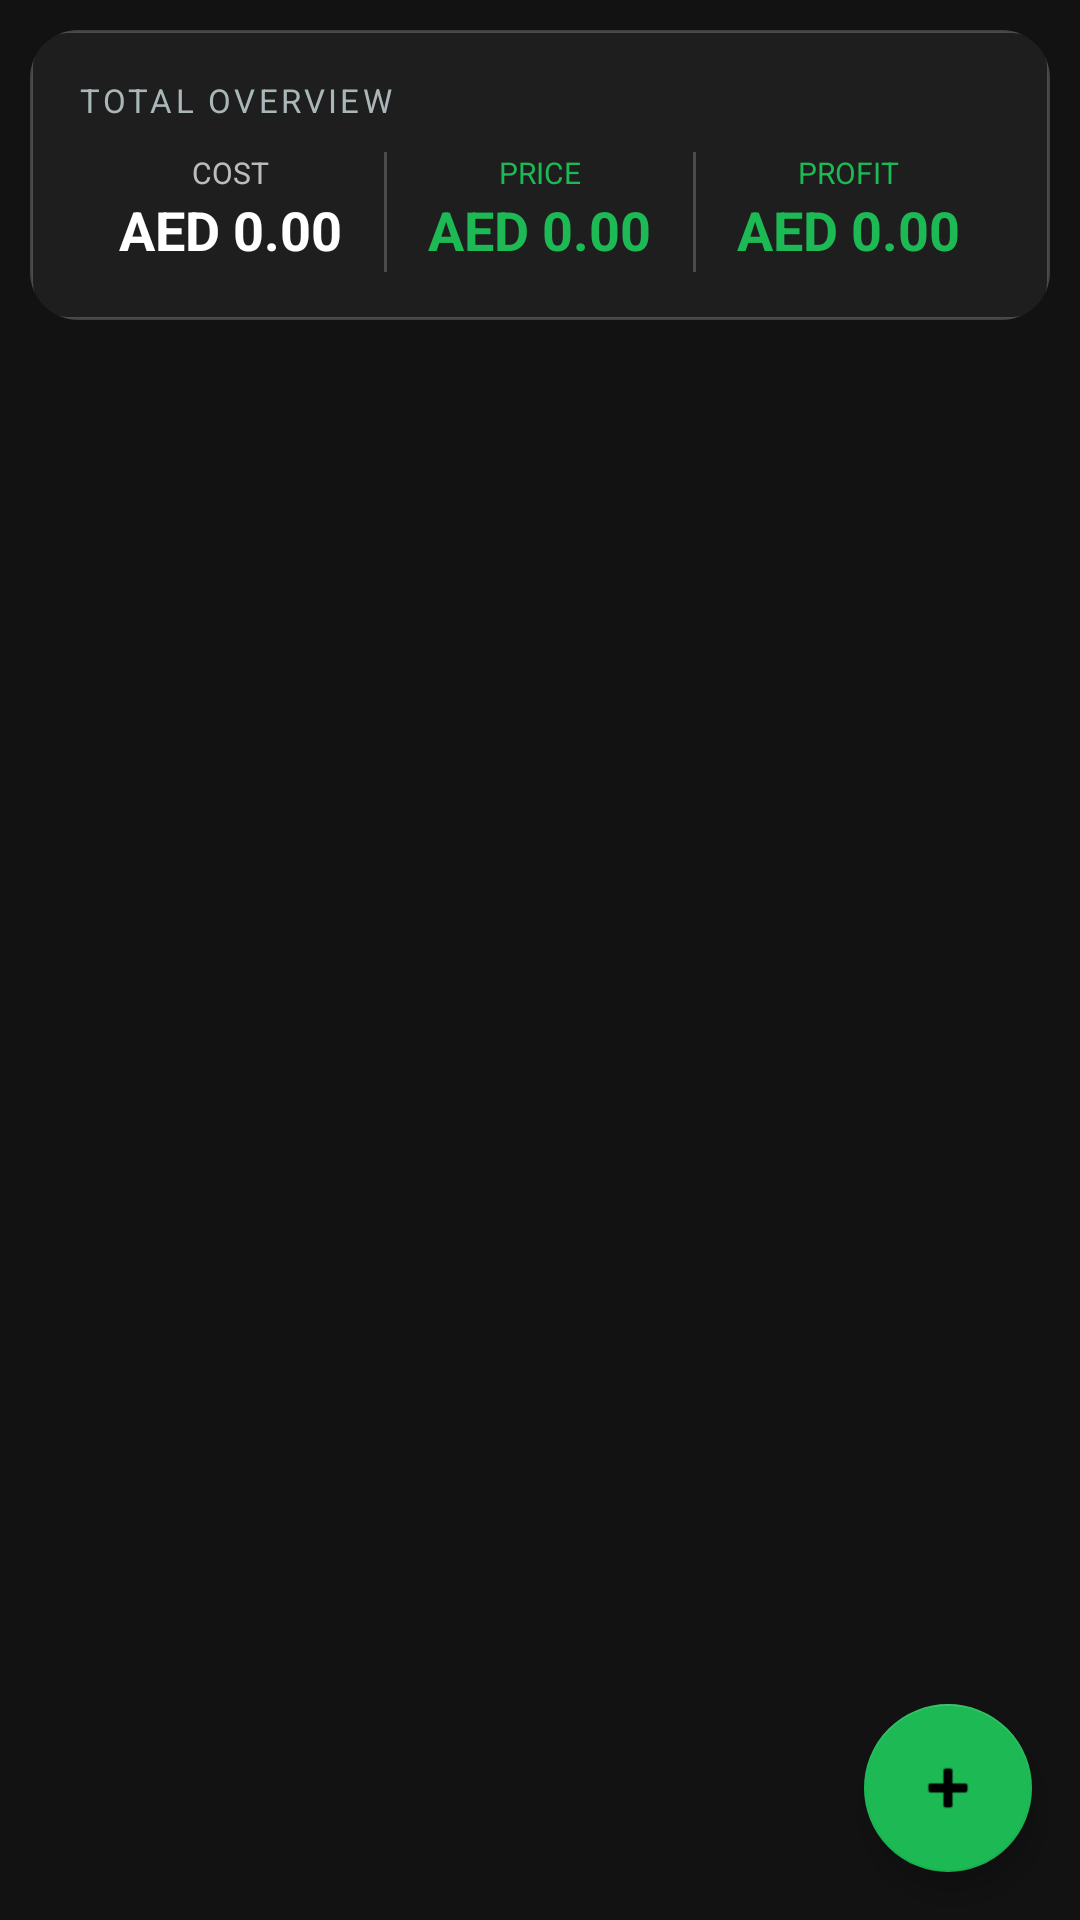

Locate icon controls on the screen. Image size 1080×1920, boxes as (x1, y1, x2, y2).
Add Sale: (864, 1704, 1032, 1872)
